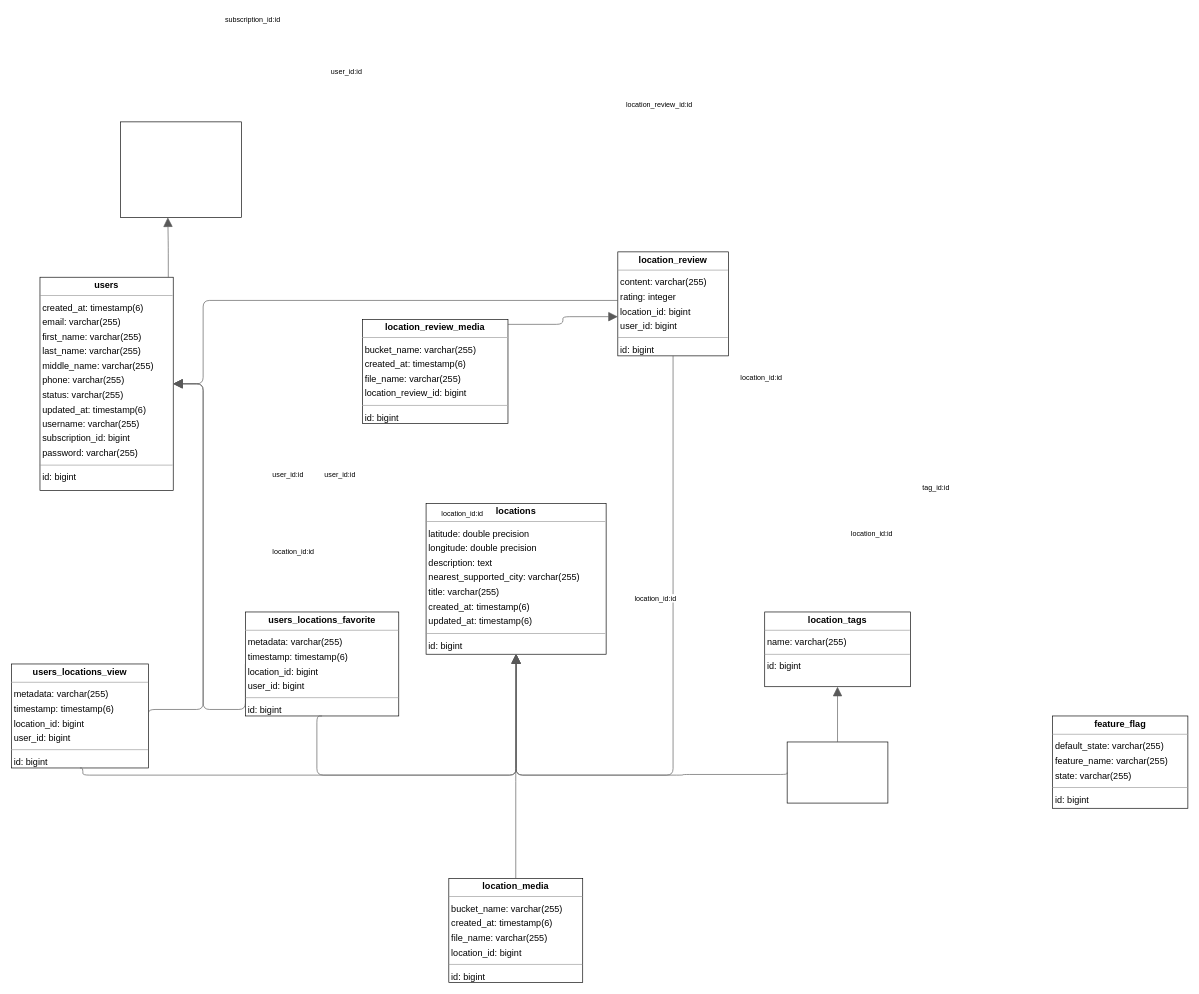
Some shapes in this 1199 by 994 pixel diagram are drawn without their labels. The shapes that lost their labels are listed below. From the top down, each one's centre as x and y in pixels, then its label:
pixel 180 169: dict_subscriptions code: varchar(255) description: text price: bigint id: bigint
pixel 837 772: locations_tags location_id: bigint tag_id: bigint
